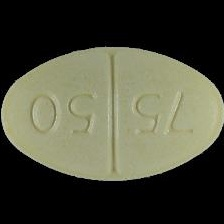60505-2657: (0, 0, 224, 224)
